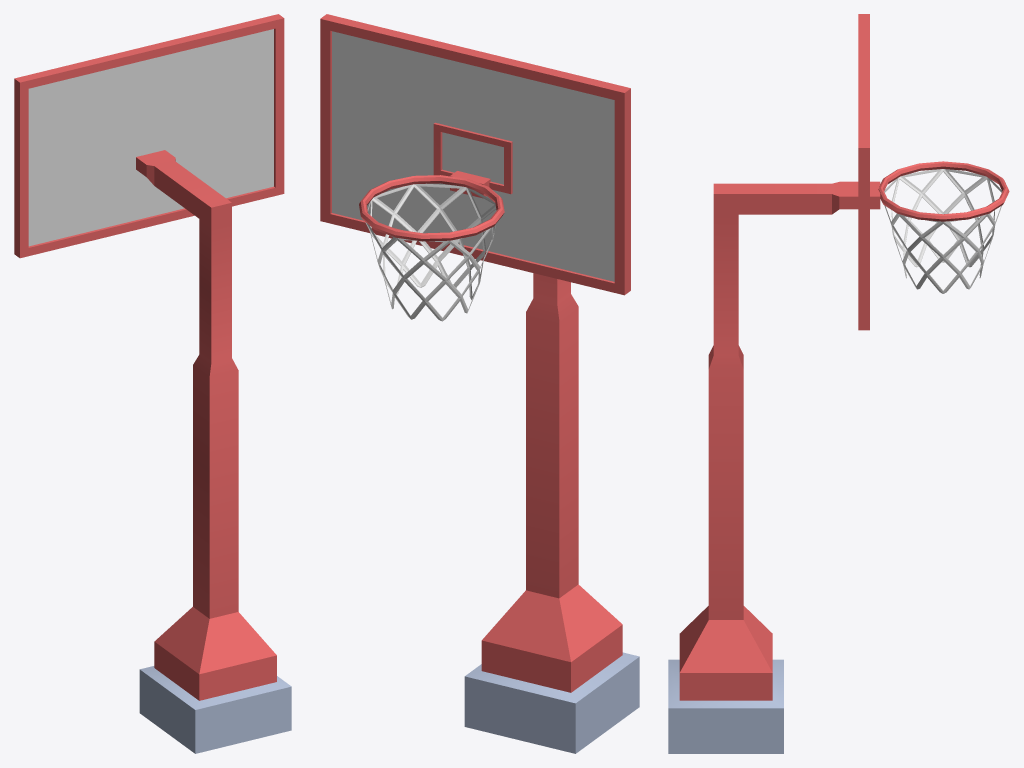
The model's file is BasketballRind.fbx.
The picture shows the model from 3 angles, left to right: view 1: azimuth 30°, elevation 25°; view 2: azimuth 150°, elevation 25°; view 3: azimuth 270°, elevation 25°; orthographic projection. The views are drawn at different scales.
Visible parts, largest first — view 1: Ring, Glass; view 2: Ring, Glass; view 3: Ring.
Boxes of the visible parts, x1=… form: Ring: x1=14, y1=14, x2=291, y2=753; Glass: x1=28, y1=29, x2=273, y2=246; Ring: x1=320, y1=14, x2=639, y2=753; Glass: x1=332, y1=31, x2=614, y2=281; Ring: x1=668, y1=14, x2=1009, y2=753.
Bounding box in the file's own units: 629 × 1421 × 677.
